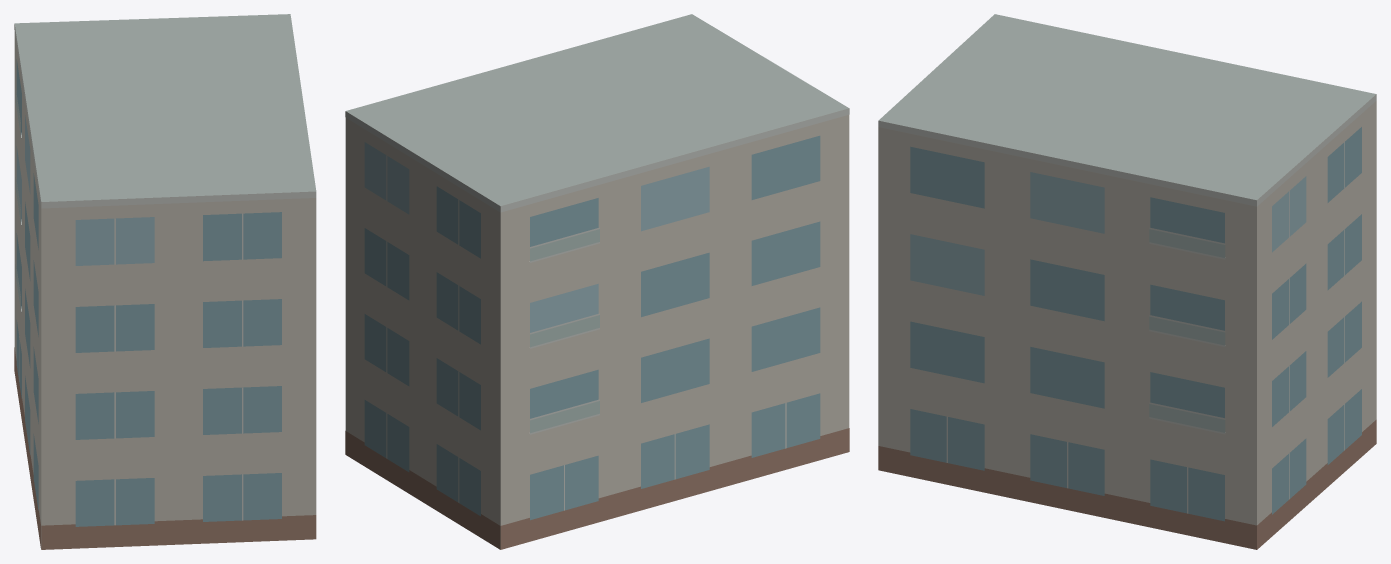
File: survey-upis-32797943.glb
3 views of the same model, side by side, from view 1: azimuth 30°, elevation 25°; view 2: azimuth 150°, elevation 25°; view 3: azimuth 270°, elevation 25° (orthographic).
Parts seen in each view (by area): view 1: survey-upis-32797943.tmp; view 2: survey-upis-32797943.tmp; view 3: survey-upis-32797943.tmp.
Part boxes in pixels (box(x1,y1,x2,y2)): survey-upis-32797943.tmp: box(14, 14, 316, 549); survey-upis-32797943.tmp: box(345, 14, 849, 549); survey-upis-32797943.tmp: box(878, 14, 1376, 549).
Bounding box in the file's own units: 15.15 × 13.25 × 17.12.
